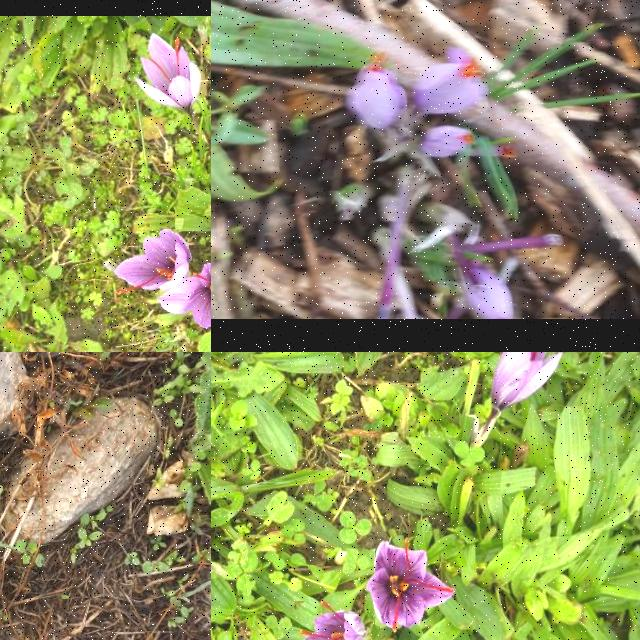flower: (364, 539, 456, 633), (136, 32, 200, 116), (412, 47, 490, 115), (115, 230, 193, 296), (346, 51, 408, 131), (160, 253, 211, 349), (491, 352, 563, 413), (297, 602, 367, 640), (464, 270, 514, 320), (419, 126, 476, 158)
